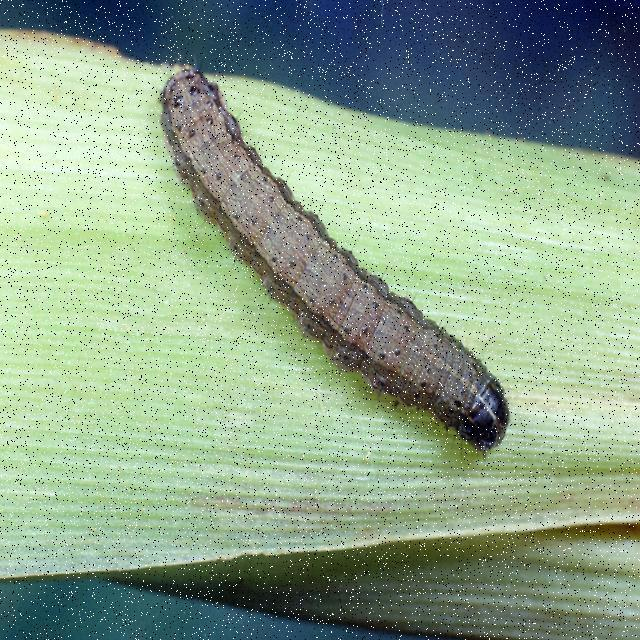army worm: (140, 37, 527, 457)
